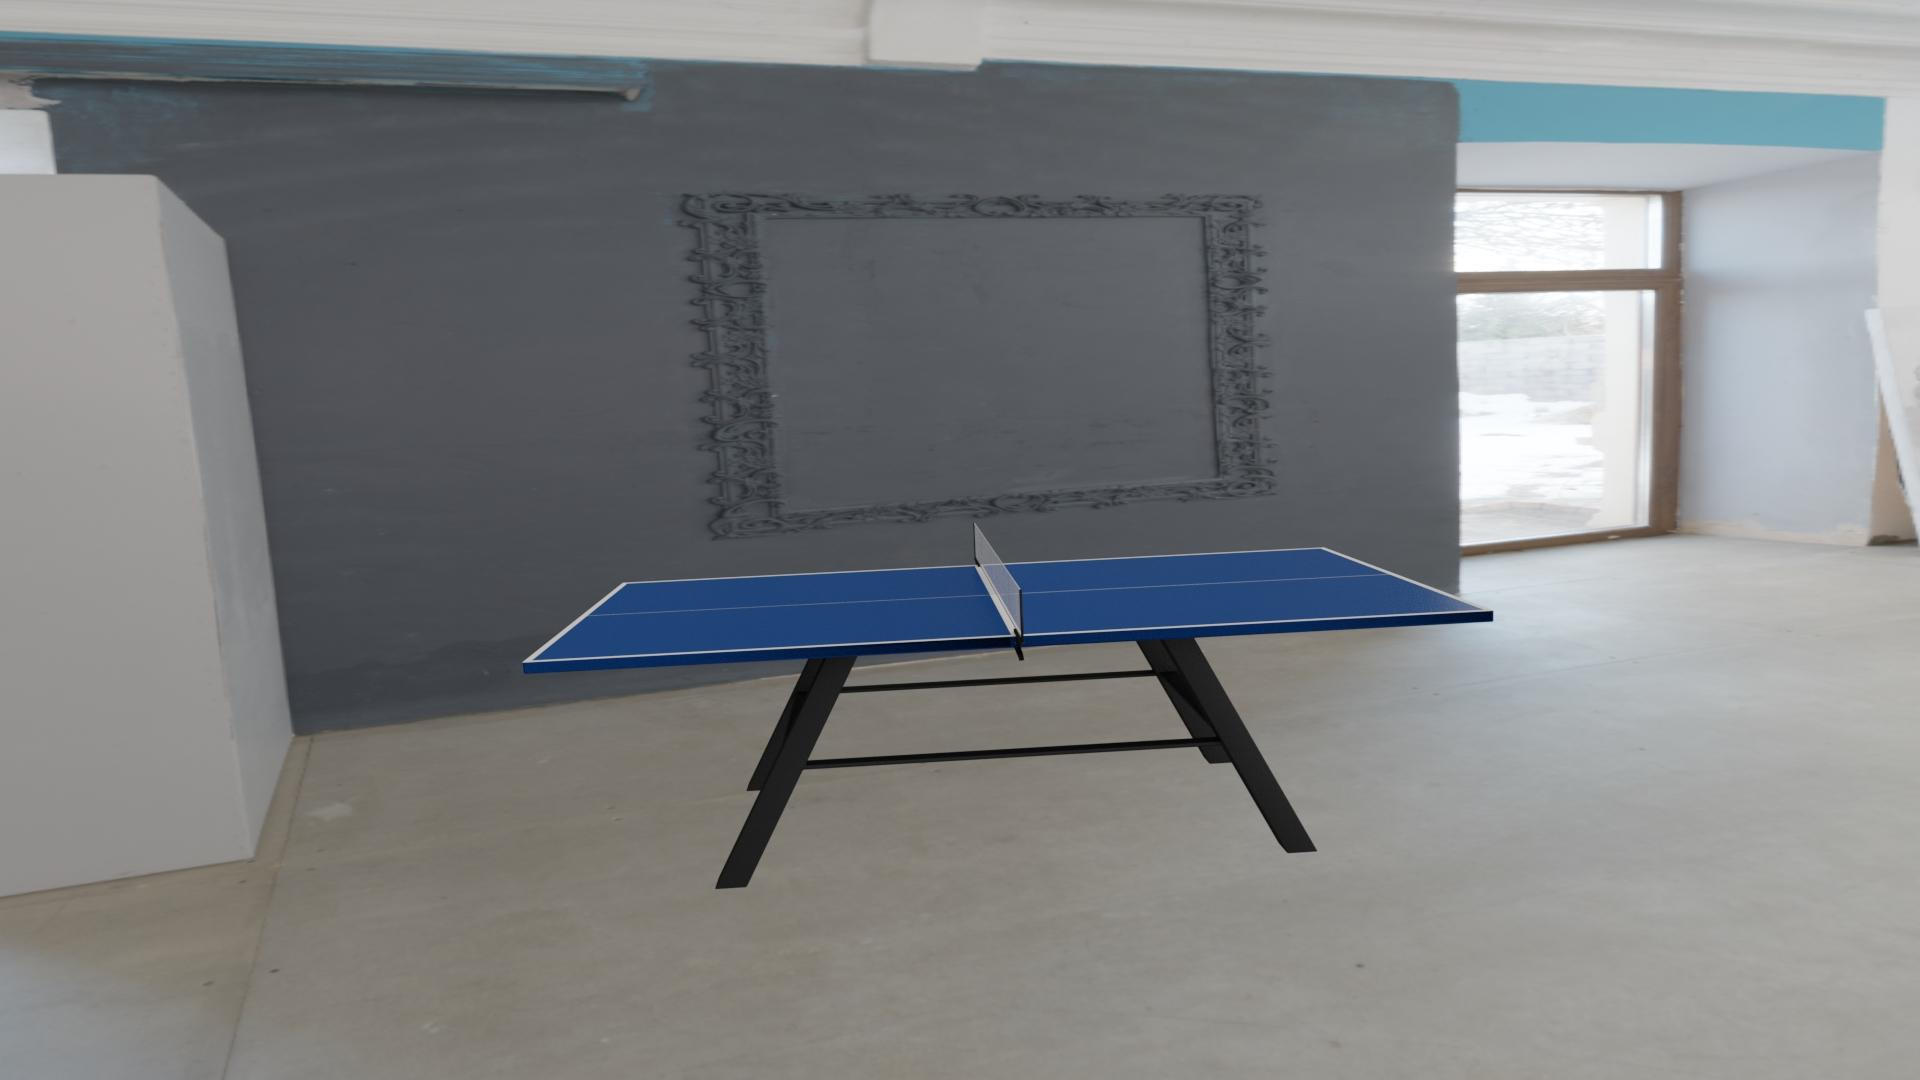table: (531, 549, 1485, 661)
